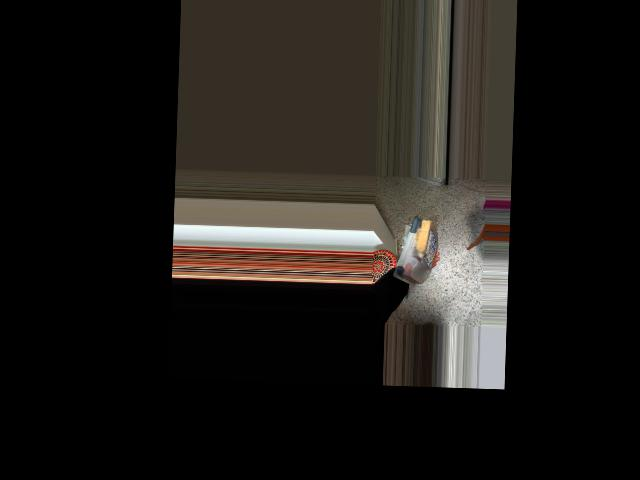cheese: (387, 212, 438, 284)
